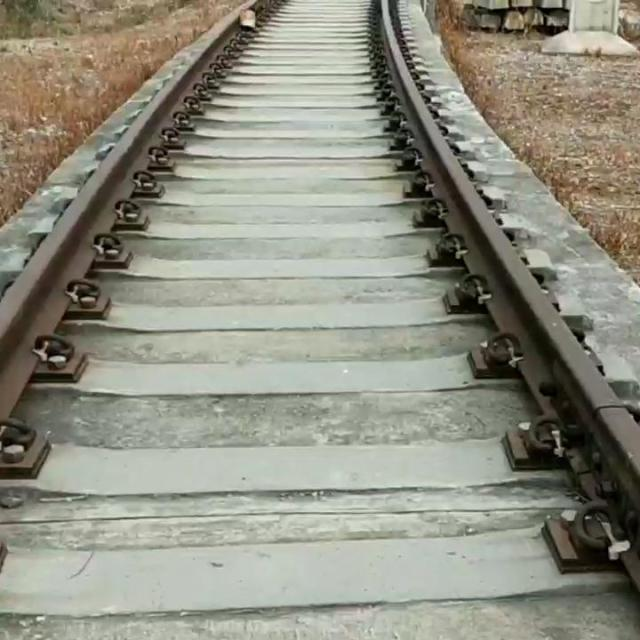rail: (383, 1, 640, 554), (2, 1, 257, 421)
